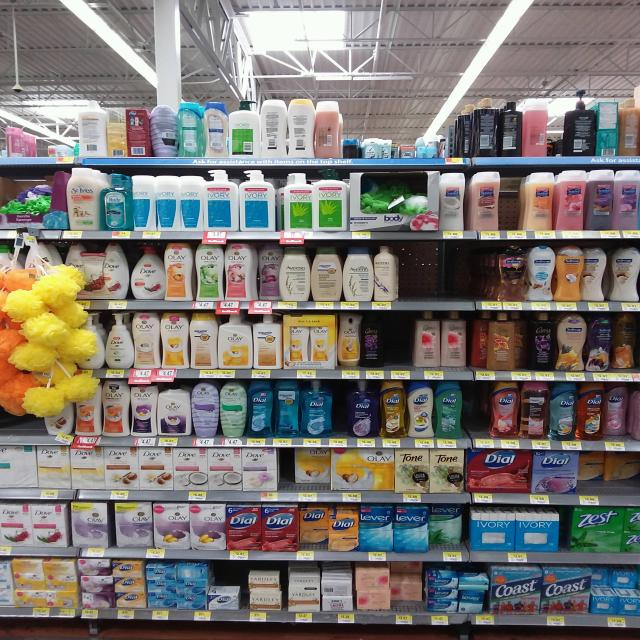void: (444, 242, 488, 310), (403, 244, 442, 312), (500, 166, 526, 242), (51, 95, 77, 170), (438, 95, 459, 170), (24, 105, 47, 167)
